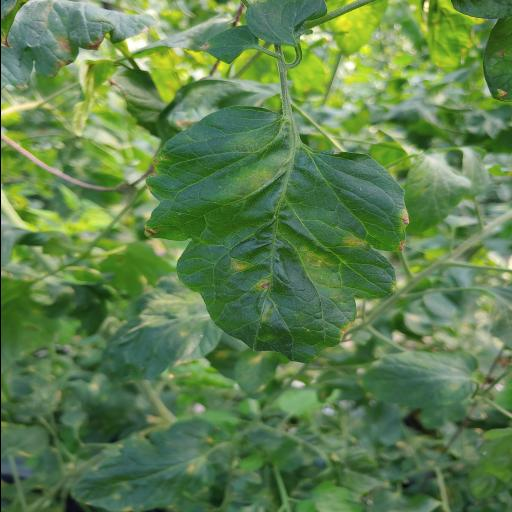disease_tomato: (140, 106, 409, 364)
